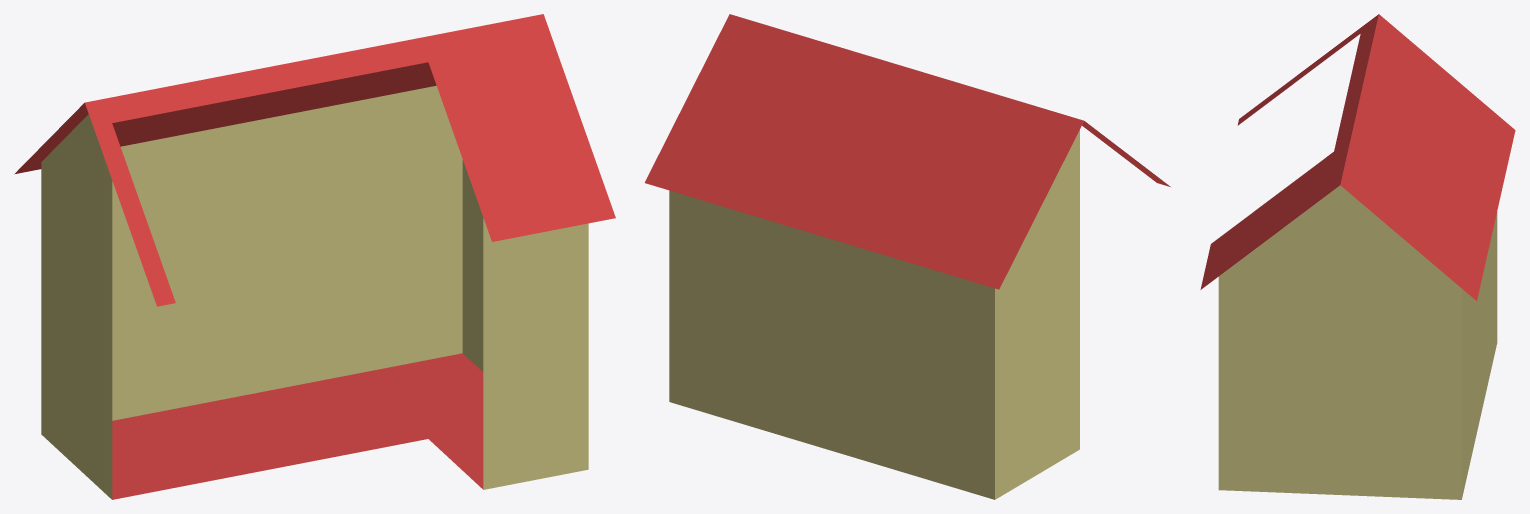
3 views of the same model, side by side, from view 1: azimuth 30°, elevation 25°; view 2: azimuth 150°, elevation 25°; view 3: azimuth 270°, elevation 25° (orthographic). The views are drawn at different scales.
Bounding box in the file's own units: 12.9 × 9.42 × 10.46.
